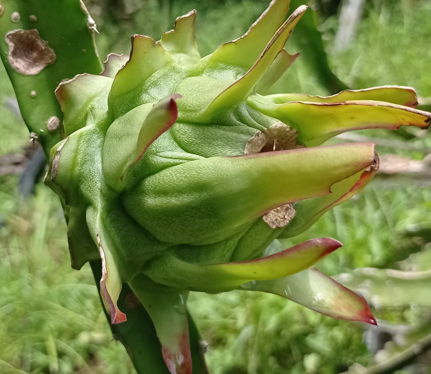Belum Matang: (41, 54, 383, 279)
